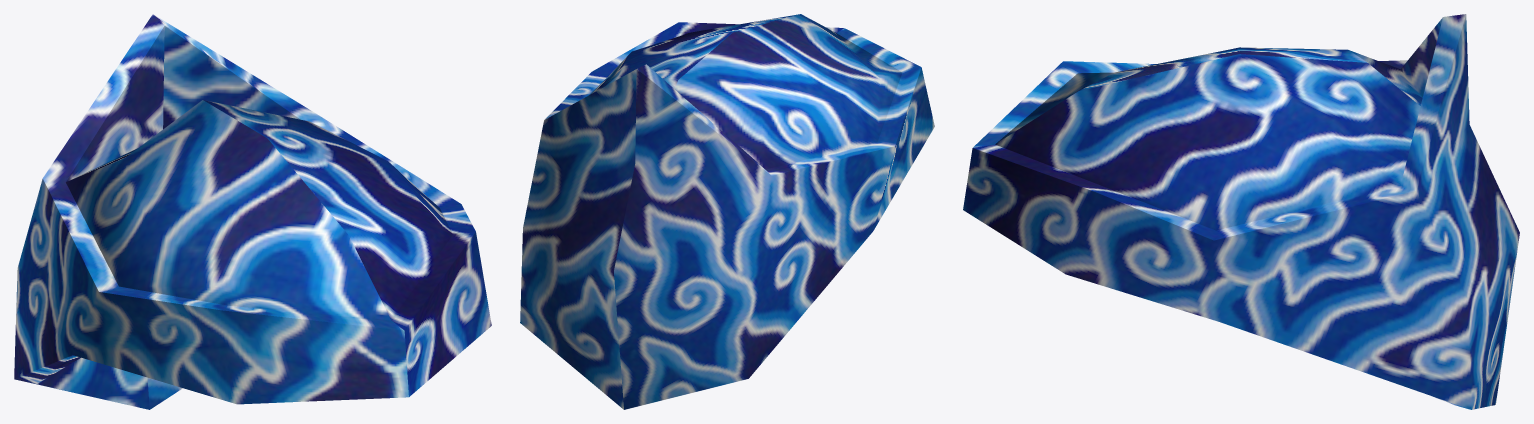
The model's file is topi_sunda.FBX.
3 renders of one model, left to right at view 1: azimuth 30°, elevation 25°; view 2: azimuth 150°, elevation 25°; view 3: azimuth 270°, elevation 25°, orthographic. The views are drawn at different scales.
Visible parts, largest first — view 1: topi_sunda; view 2: topi_sunda; view 3: topi_sunda.
Boxes of the visible parts, x1,y1,x2,y2 form: topi_sunda: (14, 14, 491, 409); topi_sunda: (520, 14, 934, 409); topi_sunda: (963, 14, 1519, 409).
Size of the model in its own units: 7.4 by 7.78 by 9.97.
